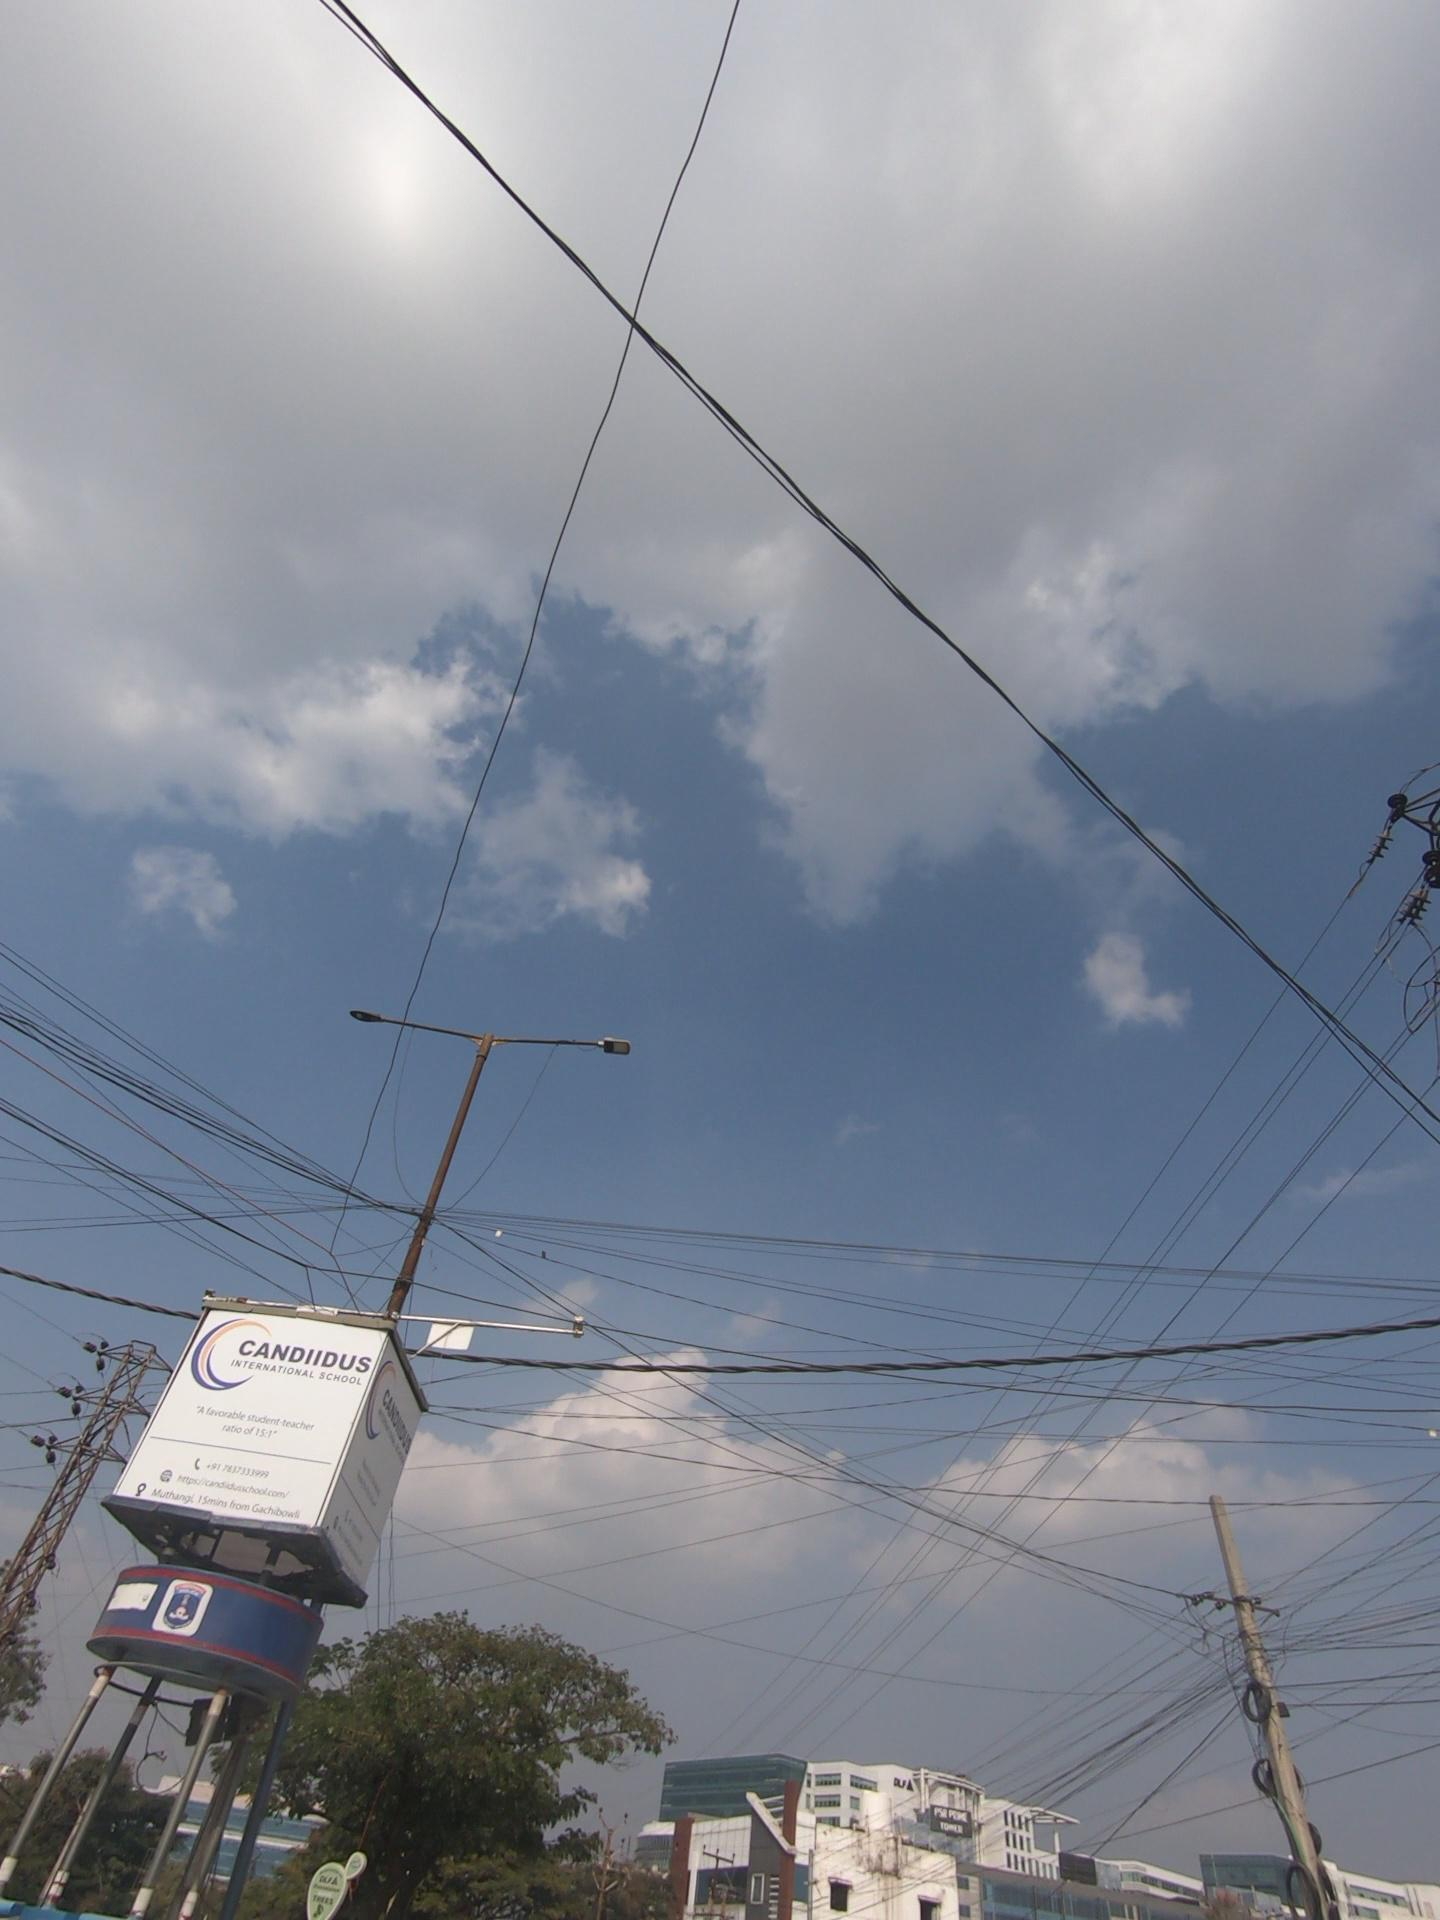off: (321, 951, 688, 1120)
